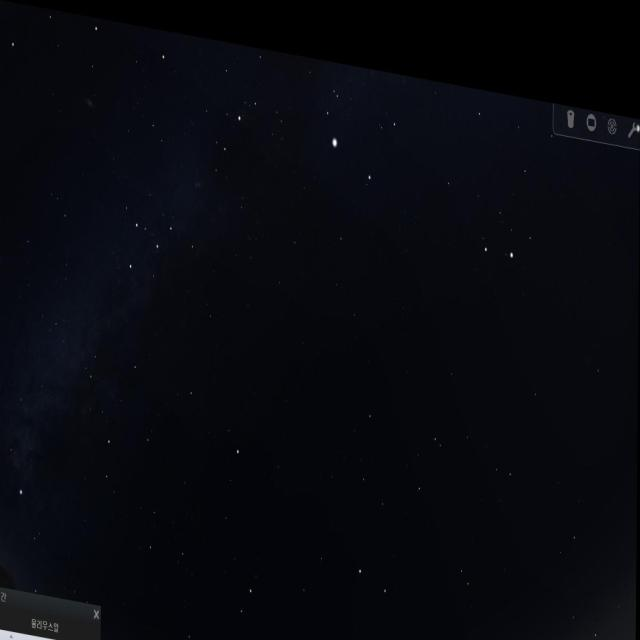cassiopeia: (112, 180, 198, 290)
